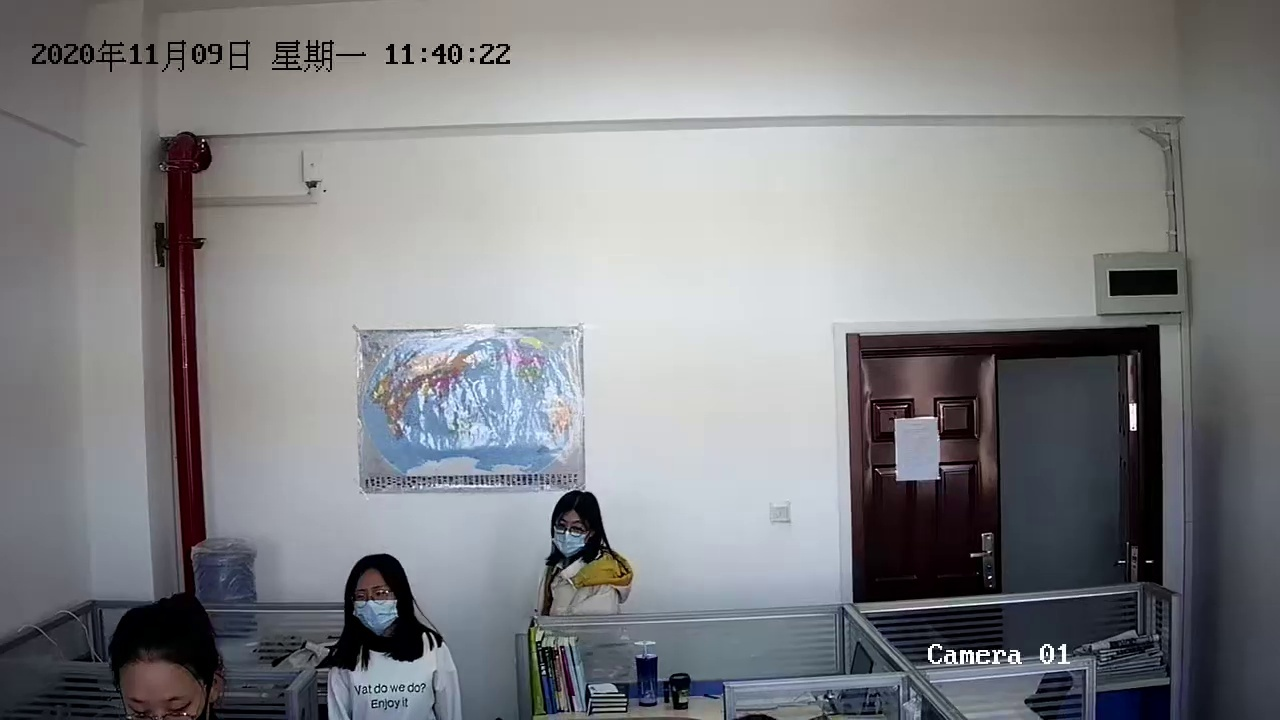mask: (116, 608, 224, 720), (345, 560, 415, 643), (547, 492, 604, 563)
